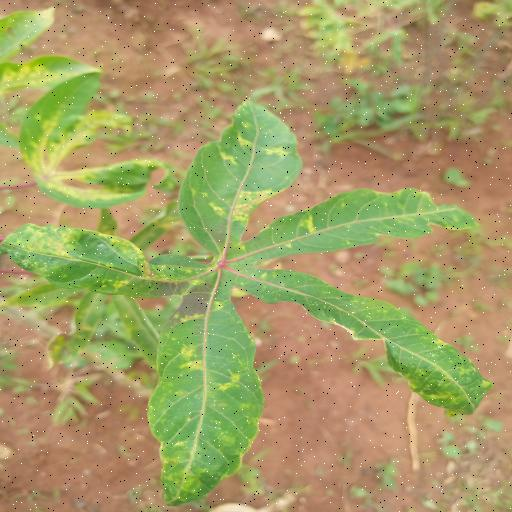Cassava_Mosaic: (0, 96, 488, 509), (24, 76, 173, 204)
